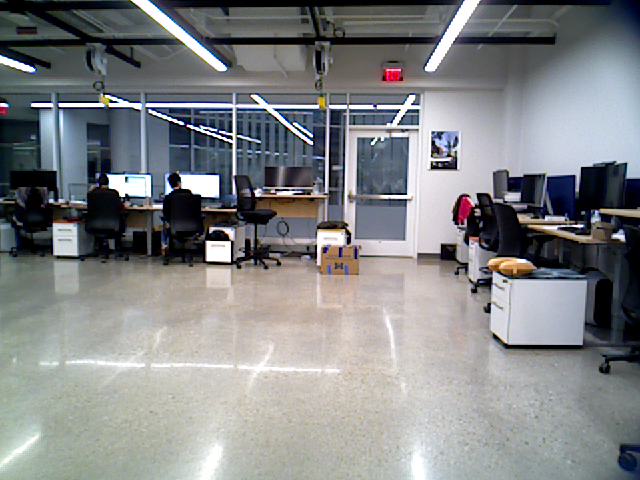painting3: (427, 131, 461, 170)
